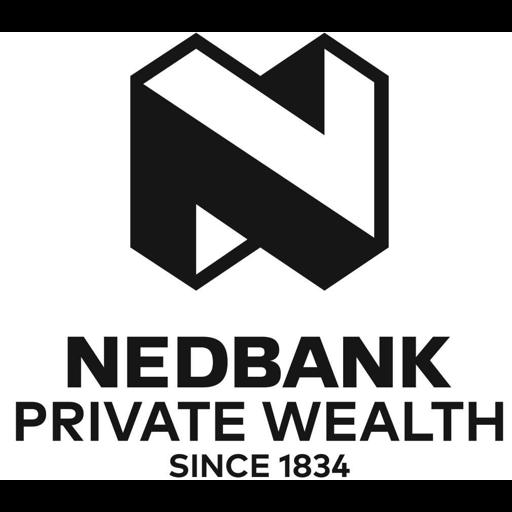NedBank Limited: (0, 32, 512, 480)
